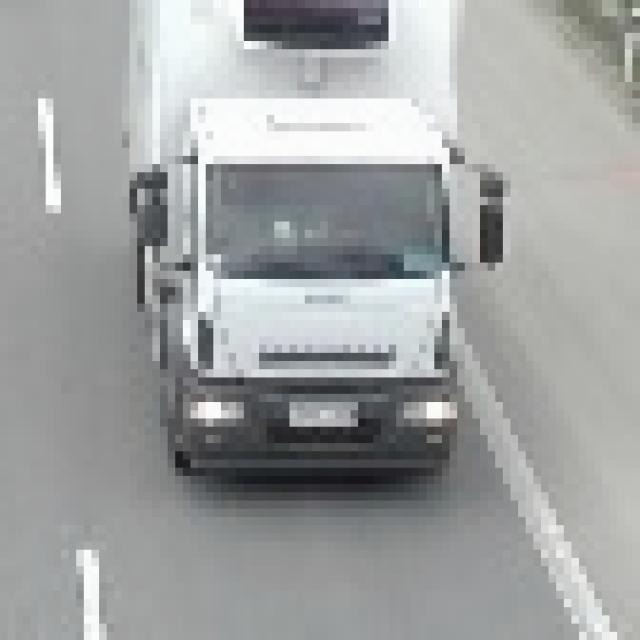truck: (108, 1, 496, 477)
